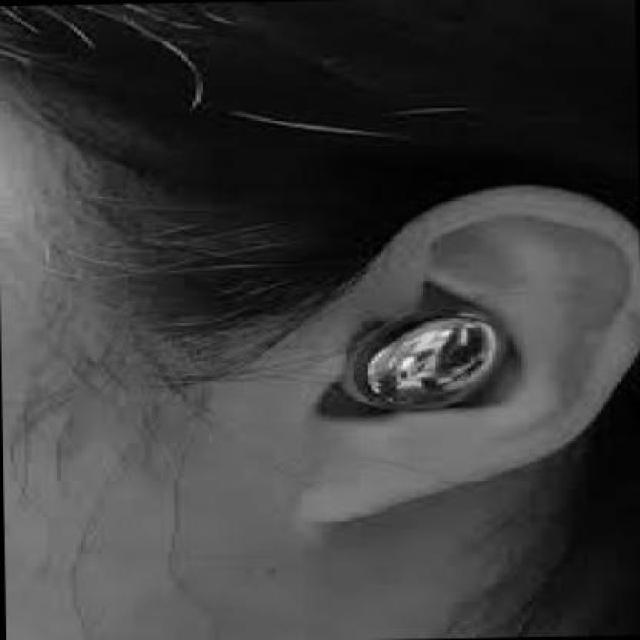earphone: (316, 248, 503, 427)
